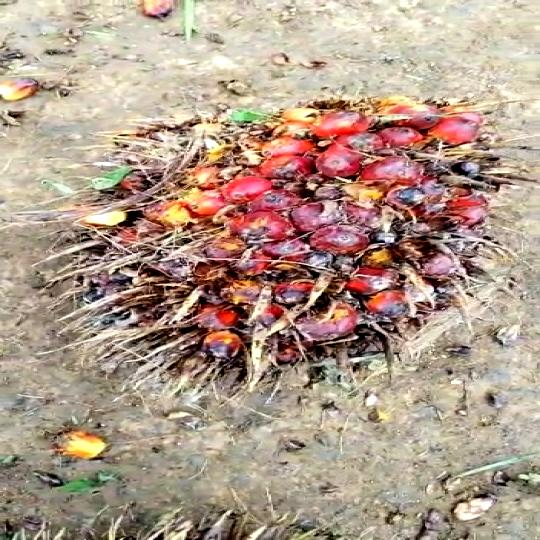masak: (53, 84, 540, 388)
